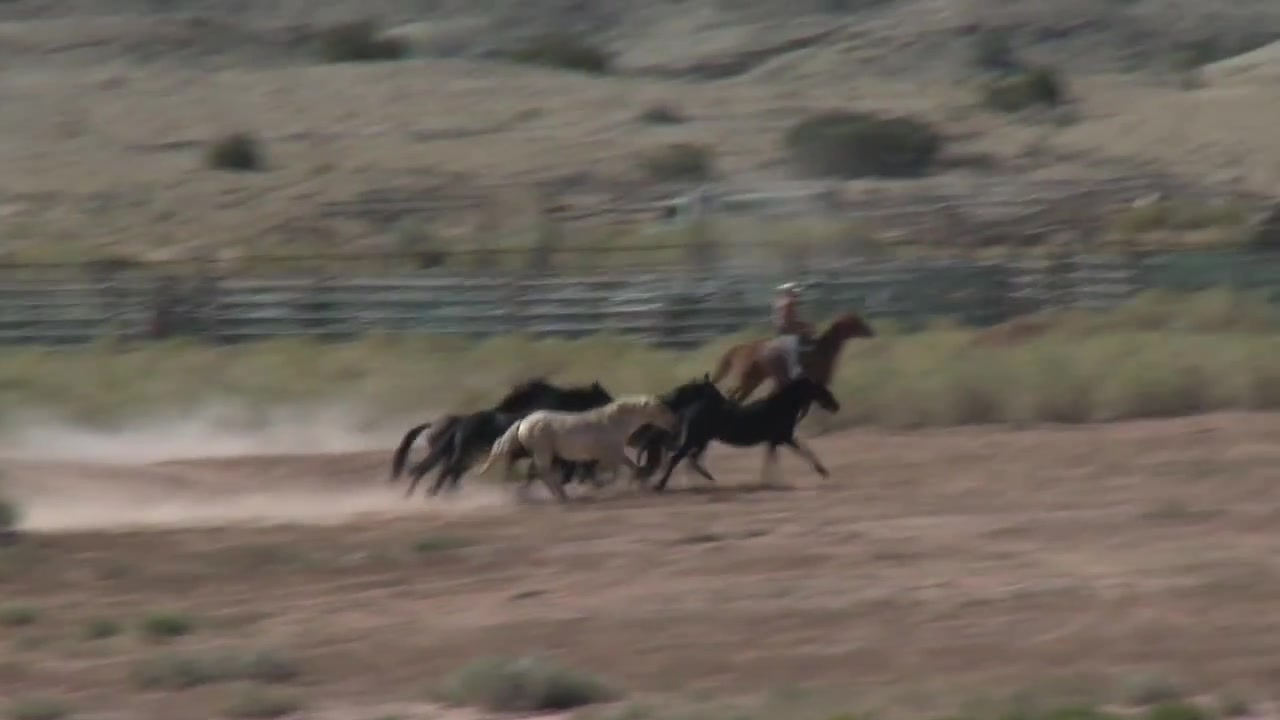horse: (649, 372, 843, 497), (430, 376, 617, 503), (481, 396, 681, 505), (706, 305, 884, 411), (389, 374, 563, 477)
